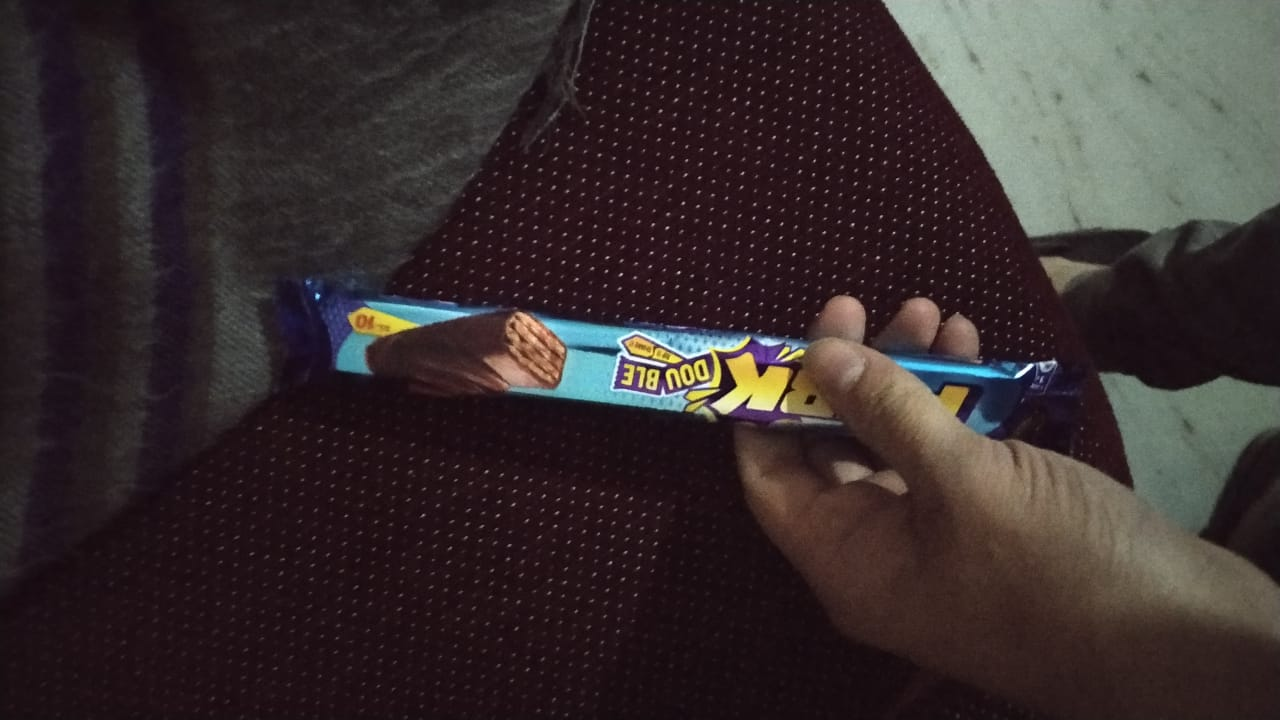perk: (308, 263, 1075, 435)
